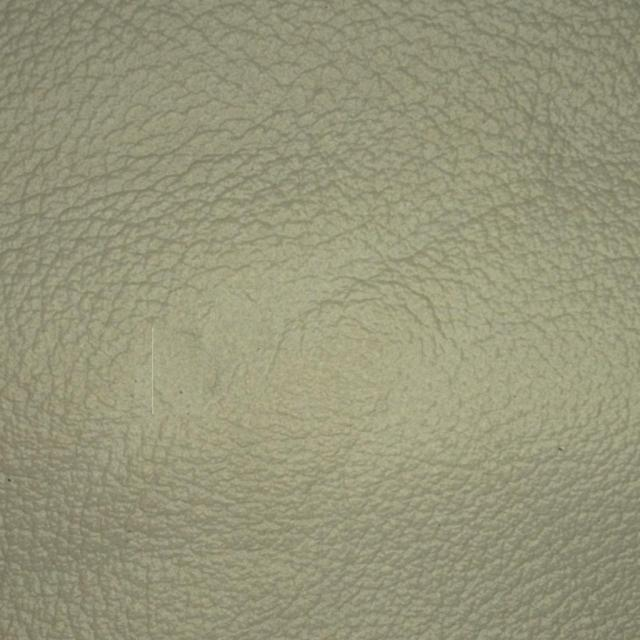Healed Injury: (131, 292, 246, 486)
